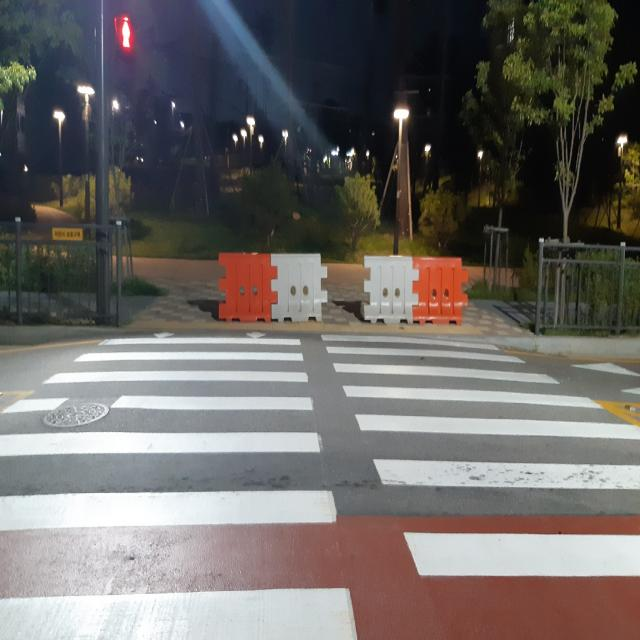빨간불: (115, 17, 134, 88)
횡단보도: (0, 330, 640, 640)
